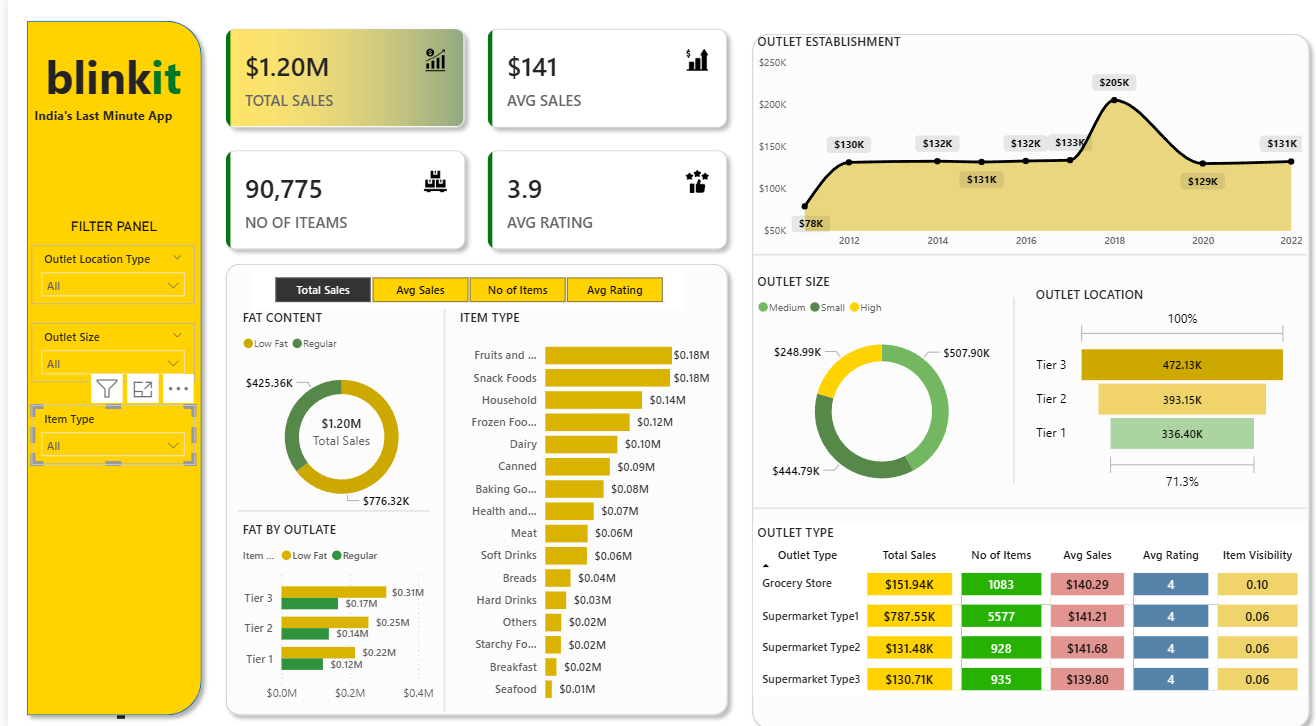

Layout of this report page (visuals, bound fields, positions):
{"tool":"powerbi","page":{"name":"Blinkit","canvas":[1400,800],"ordinal":0},"visuals":[{"type":"shape","box":[10.8,24.6,204.9,760.6],"z":0},{"type":"textbox","box":[29.8,55.3,167,81.9],"z":1000},{"type":"textbox","box":[10.6,120.2,181.9,33],"z":2000},{"type":"cardVisual","fields":{"Data":["BlinkIT Grocery Data.Total Sales","BlinkIT Grocery Data.Avg Sales","Sum(BlinkIT Grocery Data.Item Weight)","BlinkIT Grocery Data.Avg Rating"]},"box":[216,24.5,570.2,270.2],"z":3000},{"type":"shape","box":[223.6,284.7,554.7,500.5],"z":4000},{"type":"donutChart","title":"FAT CONTENT","fields":{"Y":["BlinkIT Grocery Data.Total Sales"],"Category":["BlinkIT Grocery Data.Item Fat Content"]},"box":[246.3,341.9,220.7,229.6],"z":5000},{"type":"slicer","title":"FAT CONTENT","fields":{"Values":["Metrics.Metrics"]},"box":[260.1,301.5,464,40.4],"z":6000},{"type":"cardVisual","fields":{"Data":["BlinkIT Grocery Data.Total Sales"]},"box":[305.3,437.2,102.1,56.4],"z":7000},{"type":"clusteredBarChart","title":"FAT BY OUTLATE","fields":{"Y":["BlinkIT Grocery Data.Total Sales"],"Category":["BlinkIT Grocery Data.Outlet Location Type"],"Series":["BlinkIT Grocery Data.Item Fat Content"]},"box":[246.3,568.5,220.7,203.9],"z":8000},{"type":"shape","box":[246.3,547.8,204.9,20.7],"z":9000},{"type":"shape","box":[439.4,341.9,55.2,430.5],"z":10000},{"type":"barChart","title":"ITEM TYPE","fields":{"Y":["BlinkIT Grocery Data.Total Sales"],"Category":["BlinkIT Grocery Data.Item Type"]},"box":[477.8,341.9,276.8,430.5],"z":11000},{"type":"shape","box":[786.2,39.4,613.8,760.6],"z":12000},{"type":"lineChart","title":"OUTLET ESTABLISHMENT","fields":{"Category":["BlinkIT Grocery Data.Outlet Establishment Year"],"Y":["BlinkIT Grocery Data.Total Sales"]},"box":[797,45.3,592.1,239.4],"z":13000},{"type":"shape","box":[797,273.9,592.1,20.7],"z":14000},{"type":"donutChart","title":"OUTLET SIZE ","fields":{"Y":["BlinkIT Grocery Data.Total Sales"],"Category":["BlinkIT Grocery Data.Outlet Size"]},"box":[797,302.5,274.9,253.2],"z":15000},{"type":"shape","box":[1058.1,330,35.5,199],"z":16000},{"type":"funnel","title":"OUTLET LOCATION","fields":{"Y":["Sum(BlinkIT Grocery Data.Sales)"],"Category":["BlinkIT Grocery Data.Outlet Location Type"]},"box":[1093.6,317.2,278.8,224.6],"z":17000},{"type":"shape","box":[797,544.8,592.1,20.7],"z":18000},{"type":"pivotTable","title":"OUTLET TYPE","fields":{"Rows":["BlinkIT Grocery Data.Outlet Type"],"Values":["BlinkIT Grocery Data.Total Sales","BlinkIT Grocery Data.No of Items","BlinkIT Grocery Data.Avg Sales","BlinkIT Grocery Data.Avg Rating","Avg(BlinkIT Grocery Data.Item Visibility)"]},"box":[797,571.4,592.1,185.2],"z":19000},{"type":"slicer","fields":{"Values":["BlinkIT Grocery Data.Outlet Location Type"]},"box":[25.6,273.9,174.4,63.1],"z":20000},{"type":"slicer","fields":{"Values":["BlinkIT Grocery Data.Outlet Size"]},"box":[25.6,356.7,174.4,63.1],"z":21000},{"type":"slicer","fields":{"Values":["BlinkIT Grocery Data.Item Type"]},"box":[25.6,445.3,174.4,63.1],"z":22000},{"type":"textbox","box":[51.2,238.4,124.1,28.6],"z":22001}]}

Visuals, with their boxes on the page's 1400x800 design canvas (x1, y1, x2, y2). These are canvas units, not pixel positions in the 1316x726 screenshot, which may show the page scaled, cropped or inside an application window:
shape: rect(11, 25, 216, 785)
textbox: rect(30, 55, 197, 137)
textbox: rect(11, 120, 192, 153)
cardVisual - BlinkIT Grocery Data.Total Sales x BlinkIT Grocery Data.Avg Sales: rect(216, 24, 786, 295)
shape: rect(224, 285, 778, 785)
"FAT CONTENT" donutChart: rect(246, 342, 467, 572)
"FAT CONTENT" slicer: rect(260, 302, 724, 342)
cardVisual - BlinkIT Grocery Data.Total Sales: rect(305, 437, 407, 494)
"FAT BY OUTLATE" clusteredBarChart: rect(246, 568, 467, 772)
shape: rect(246, 548, 451, 568)
shape: rect(439, 342, 495, 772)
"ITEM TYPE" barChart: rect(478, 342, 755, 772)
shape: rect(786, 39, 1400, 800)
"OUTLET ESTABLISHMENT" lineChart: rect(797, 45, 1389, 285)
shape: rect(797, 274, 1389, 295)
"OUTLET SIZE " donutChart: rect(797, 302, 1072, 556)
shape: rect(1058, 330, 1094, 529)
"OUTLET LOCATION" funnel: rect(1094, 317, 1372, 542)
shape: rect(797, 545, 1389, 566)
"OUTLET TYPE" pivotTable: rect(797, 571, 1389, 757)
slicer - BlinkIT Grocery Data.Outlet Location Type: rect(26, 274, 200, 337)
slicer - BlinkIT Grocery Data.Outlet Size: rect(26, 357, 200, 420)
slicer - BlinkIT Grocery Data.Item Type: rect(26, 445, 200, 508)
textbox: rect(51, 238, 175, 267)
